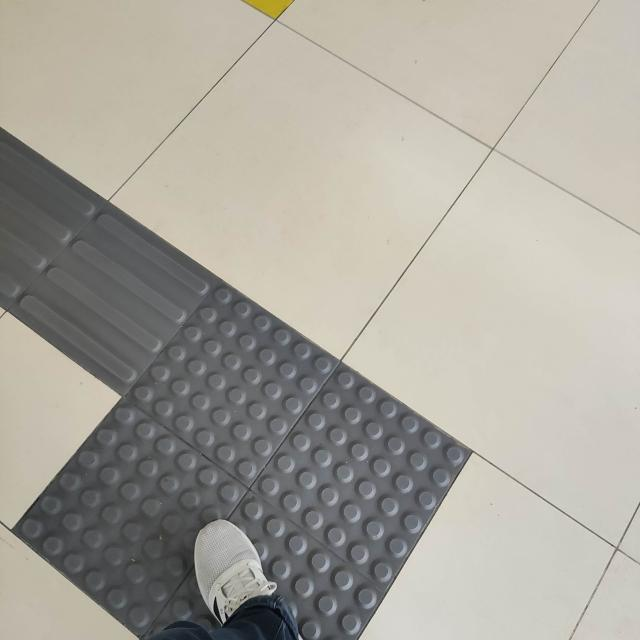kiri: (0, 89, 484, 640)
